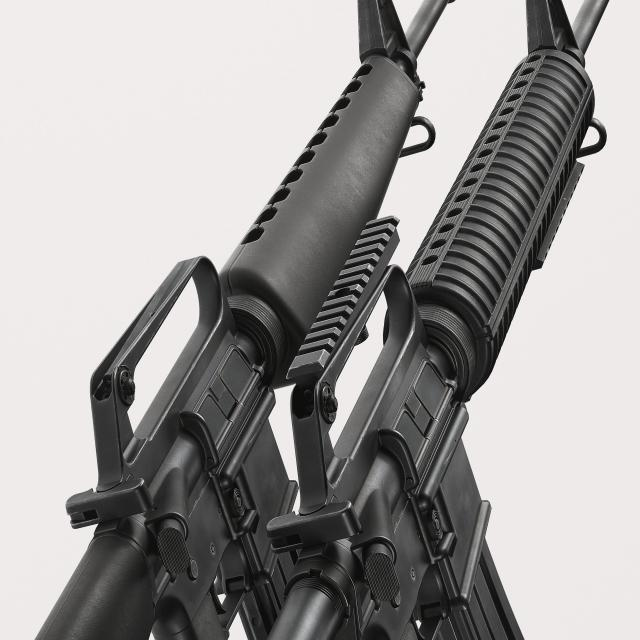m16: (29, 0, 444, 517)
